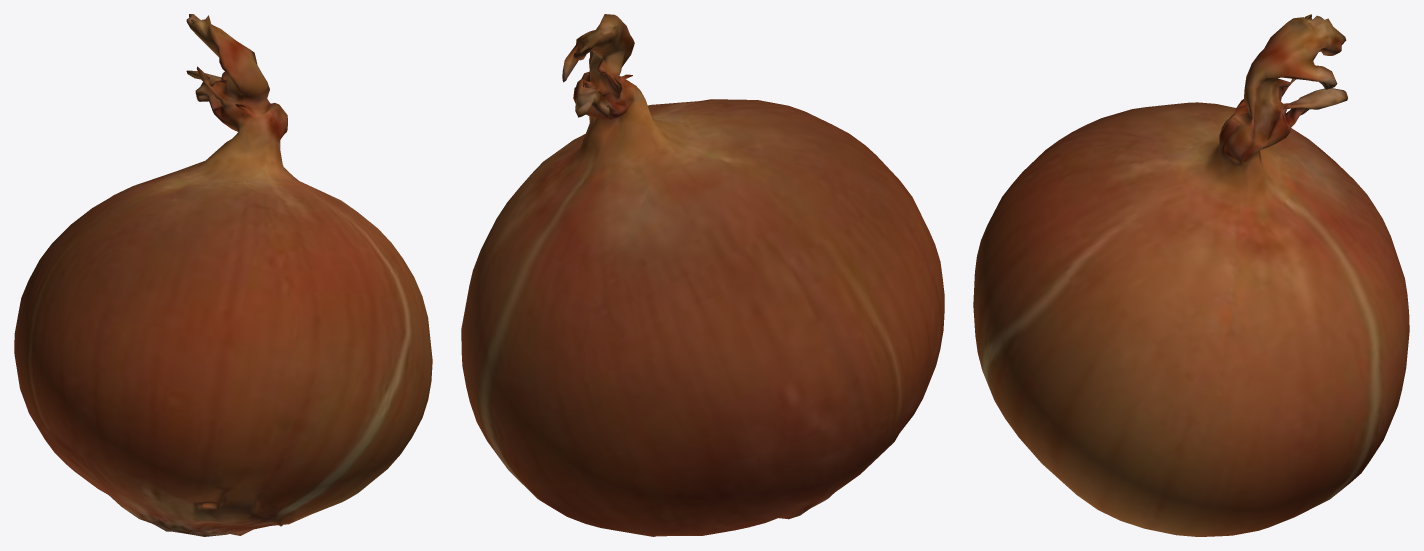
The model's file is onion.glb.
The picture shows the model from 3 angles, left to right: view 1: azimuth 30°, elevation 25°; view 2: azimuth 150°, elevation 25°; view 3: azimuth 270°, elevation 25°; orthographic projection. The views are drawn at different scales.
Visible parts, largest first — view 1: yellow_onion; view 2: yellow_onion; view 3: yellow_onion.
Part boxes in pixels (x1,y1,x2,y2): yellow_onion: [14, 14, 432, 536]; yellow_onion: [461, 14, 944, 536]; yellow_onion: [973, 14, 1409, 536].
Bounding box in the file's own units: 0.0725 × 0.0864 × 0.0686.
Materials: 1 (1 with a texture image).
